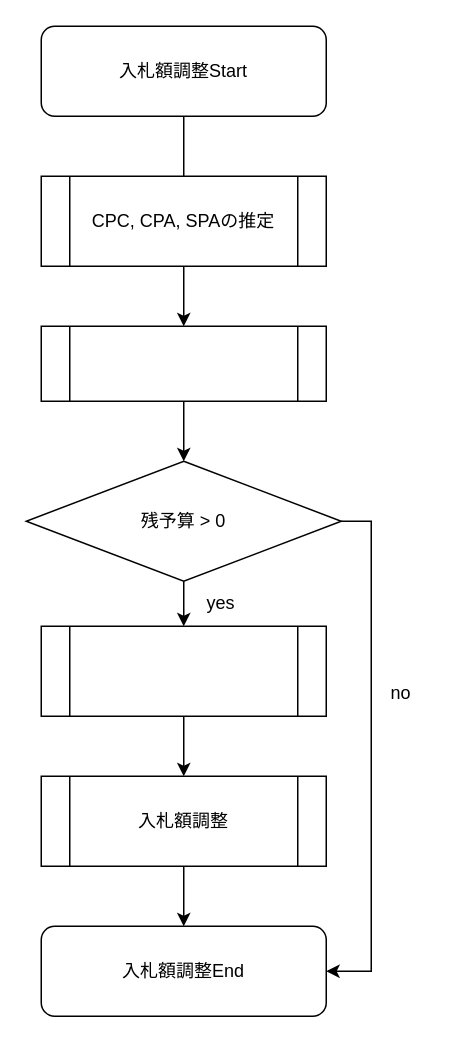
This 473x1043 diagram has some shape labels left out. The shapes that lost their labels are listed below. From the top down, each one's centre as x and y in pixels, then its label:
At (183,363): "全体日予算の計算".
At (183,670): "PID調整".
